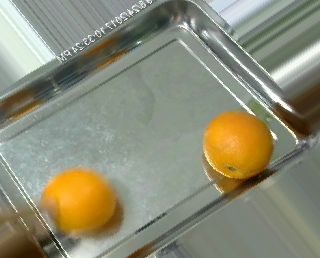Orange: (202, 109, 274, 179), (42, 168, 117, 233)
